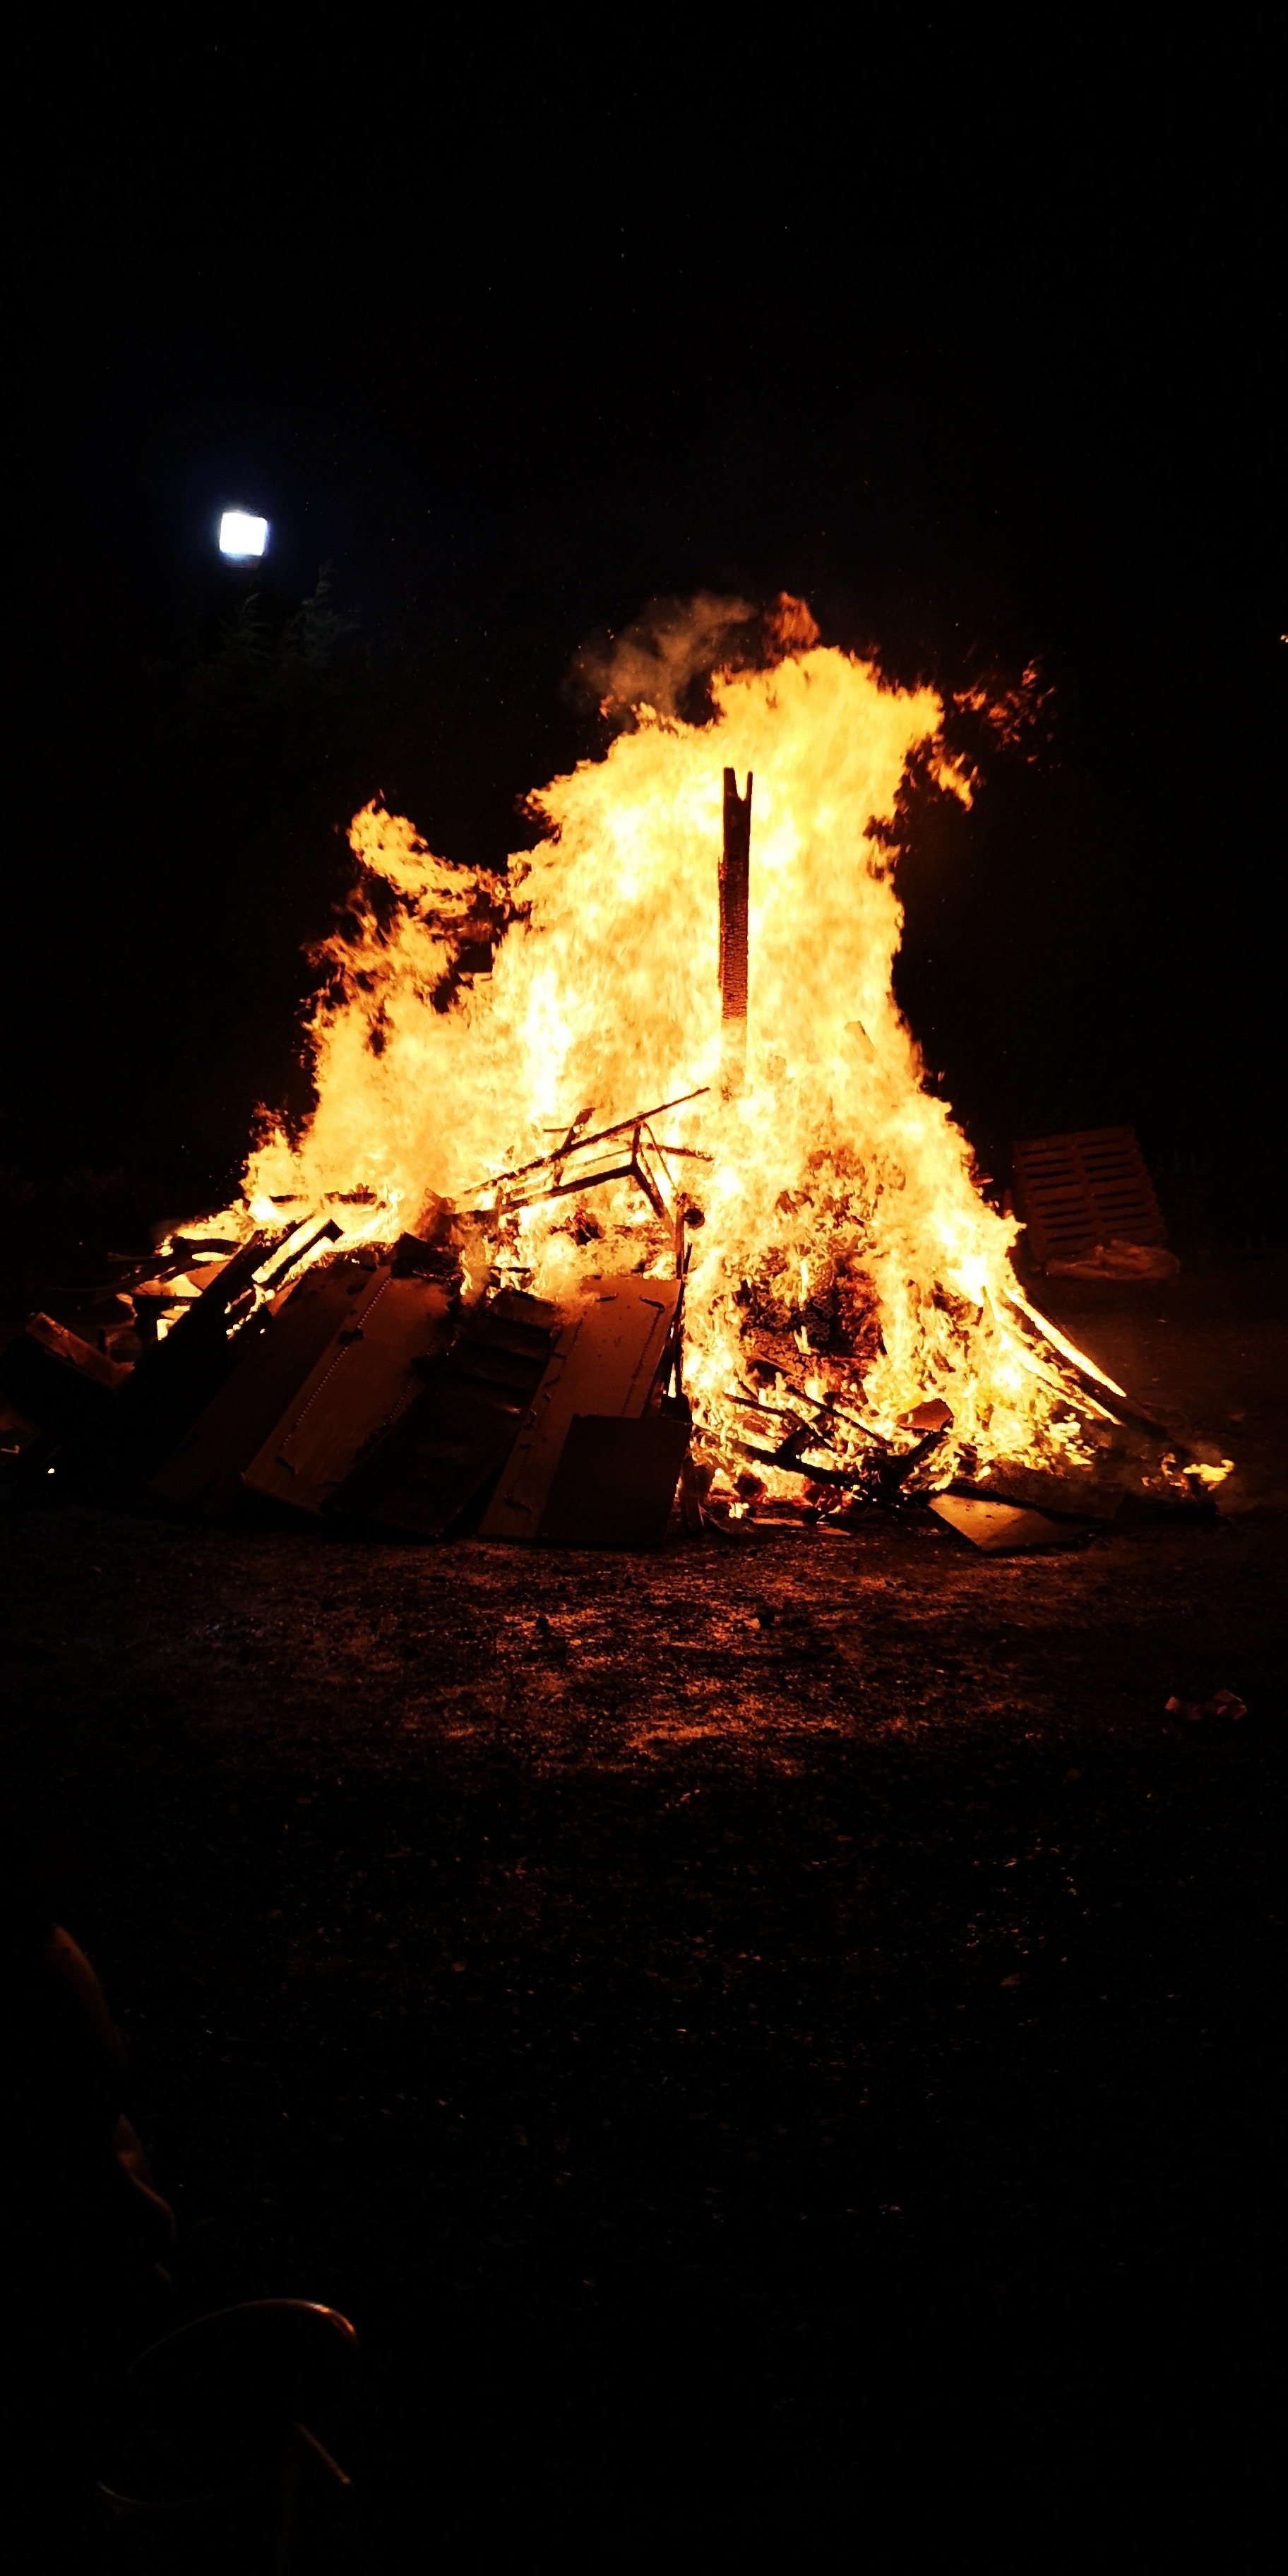fire: (138, 603, 1199, 1518)
